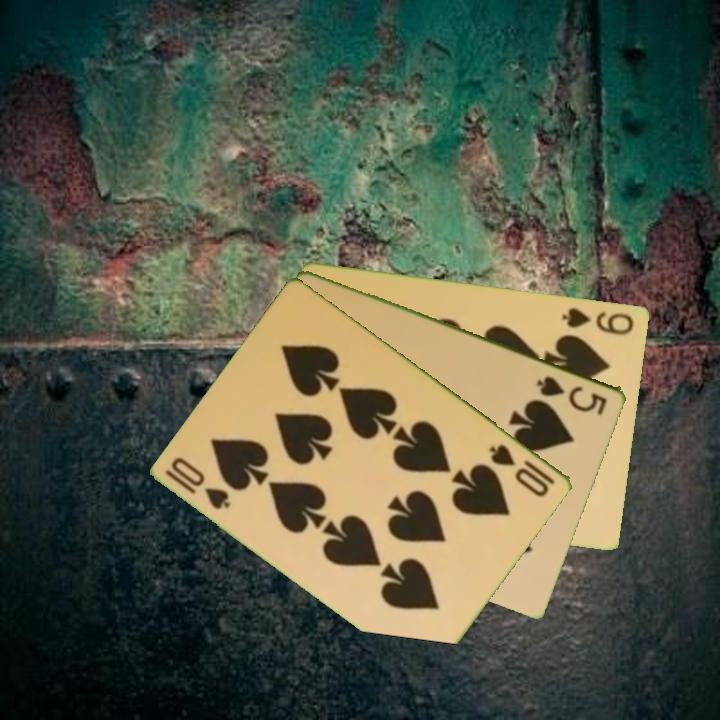10s: (486, 440, 559, 500), (162, 453, 234, 513)
5s: (533, 372, 611, 418)
9s: (559, 303, 637, 338)
